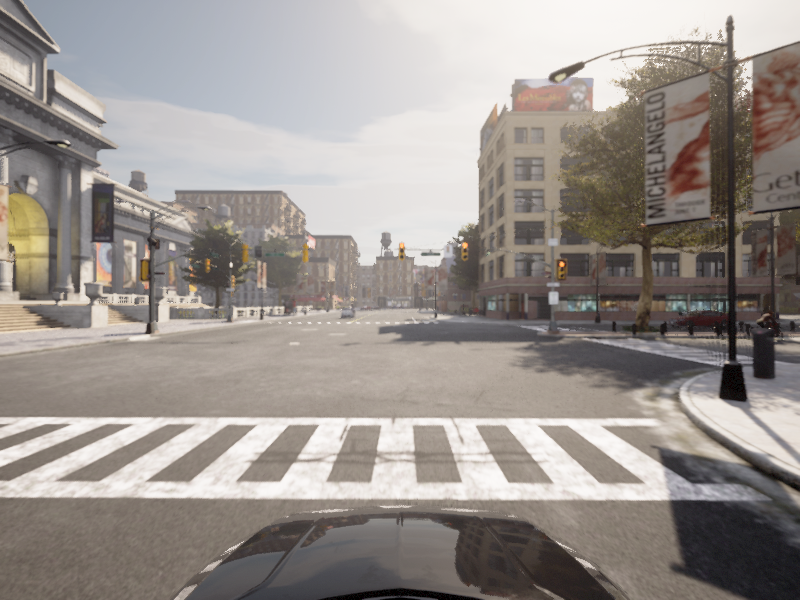vehicle: (664, 310, 739, 329), (746, 310, 789, 343)
